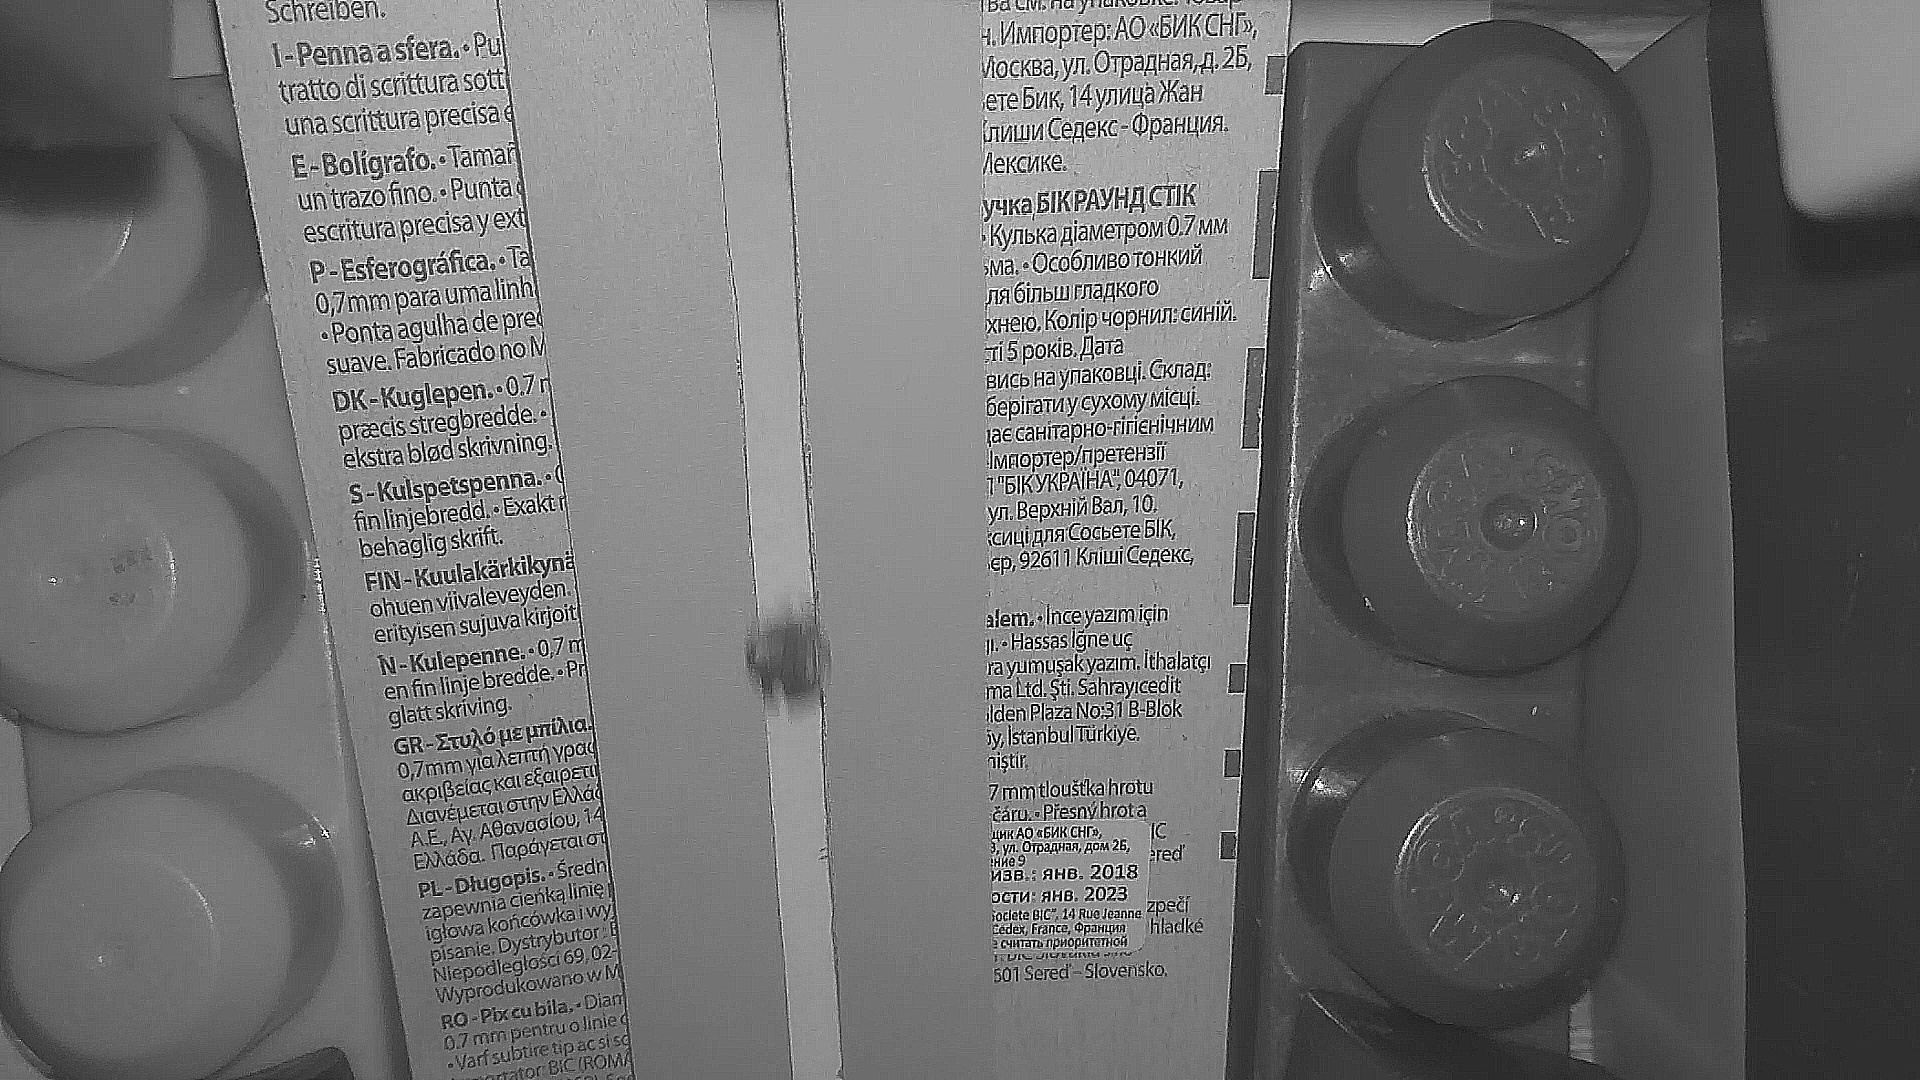i: (752, 618, 829, 700)
